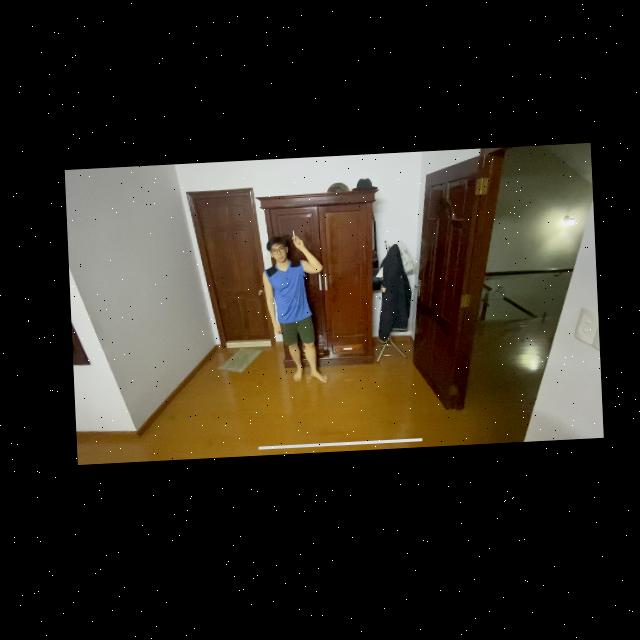cigarette: (291, 233, 293, 240)
